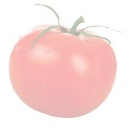tomato: (9, 24, 117, 118)
